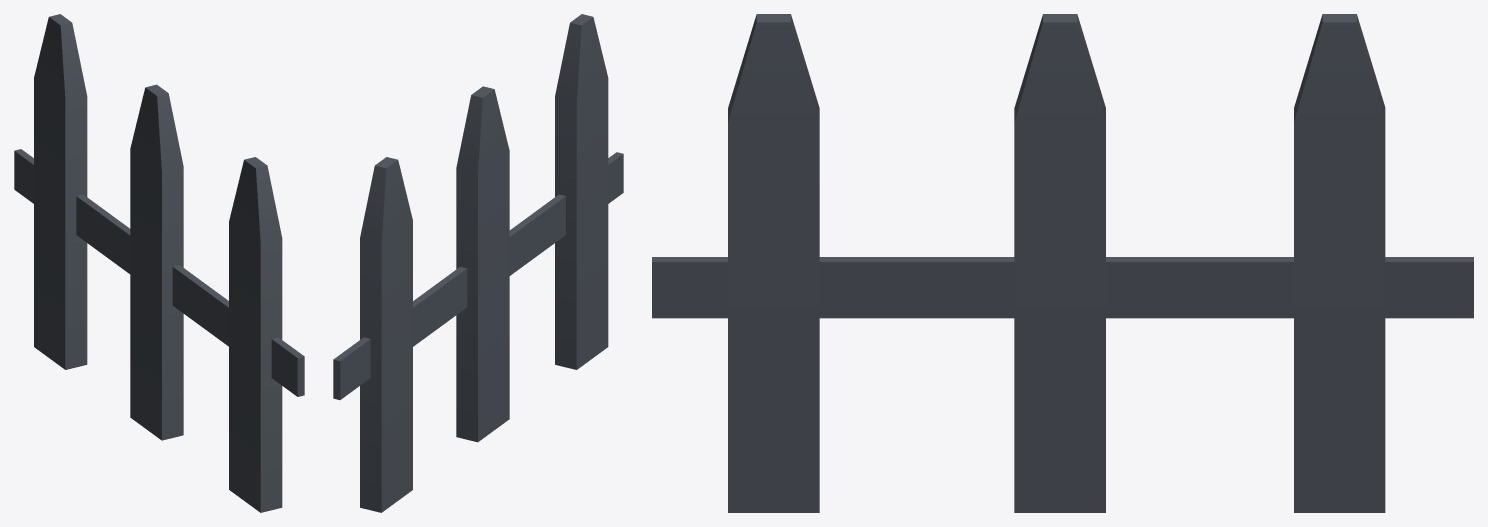
The model's file is fench2.FBX.
The picture shows the model from 3 angles, left to right: view 1: azimuth 30°, elevation 25°; view 2: azimuth 150°, elevation 25°; view 3: azimuth 270°, elevation 25°; orthographic projection. The views are drawn at different scales.
Visible parts, largest first — view 1: fench1; view 2: fench1; view 3: fench1.
Boxes of the visible parts, x1,y1,x2,y2 form: fench1: [14, 14, 304, 512]; fench1: [333, 14, 623, 512]; fench1: [652, 14, 1473, 512].
Bounding box in the file's own units: 0.289 × 4.28 × 6.54.
